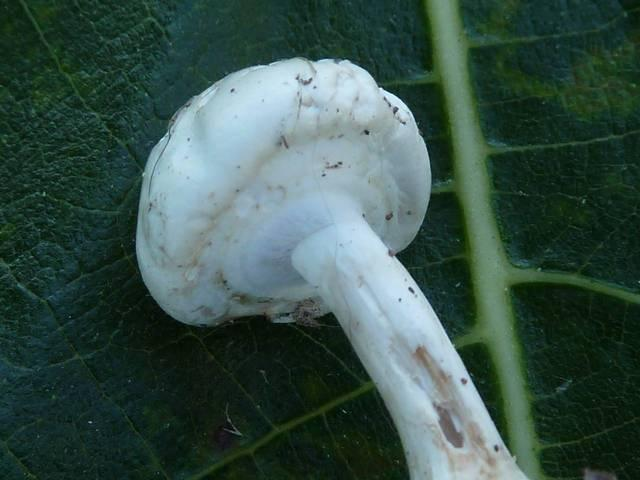poisonous_mushroom: (133, 55, 531, 478)
